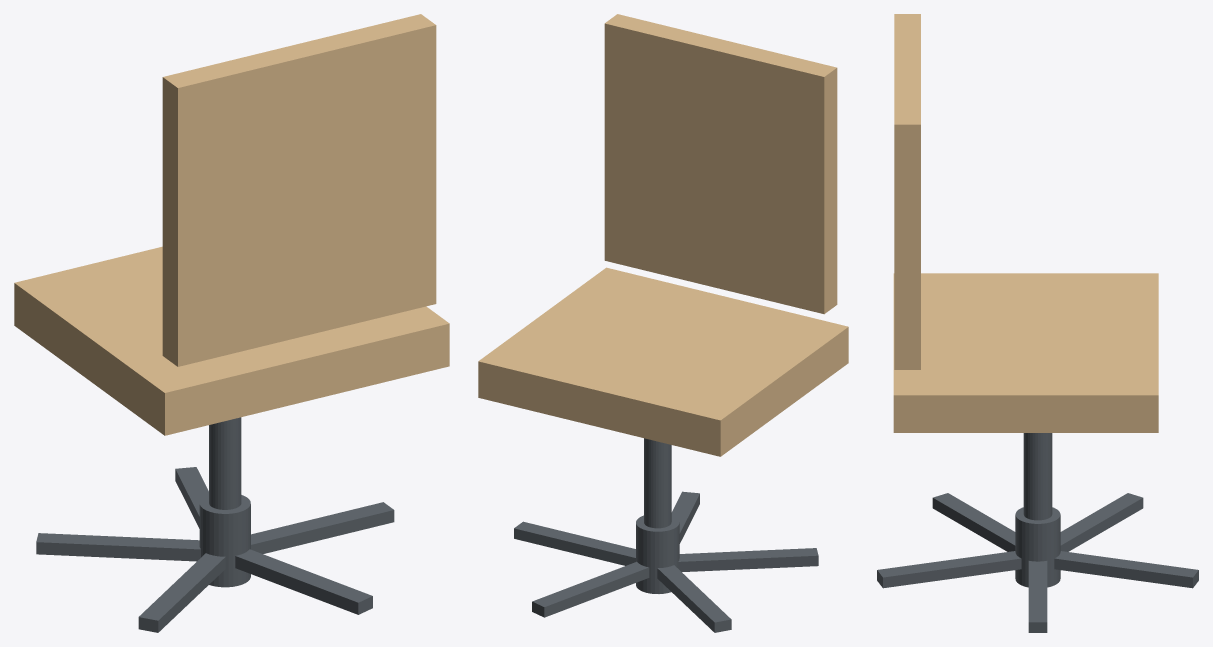
File: office_lounge_seating_reference_board_72.glb
3 renders of one model, left to right at view 1: azimuth 30°, elevation 25°; view 2: azimuth 150°, elevation 25°; view 3: azimuth 270°, elevation 25°, orthographic. The views are drawn at different scales.
Visible parts, largest first — view 1: Cylinder; view 2: Cylinder; view 3: Cylinder.
Boxes of the visible parts, x1,y1,x2,y2 form: Cylinder: [14, 14, 449, 632]; Cylinder: [478, 14, 848, 632]; Cylinder: [877, 14, 1198, 632].
Size of the model in its own units: 0.5249 by 0.95 by 0.5436.
